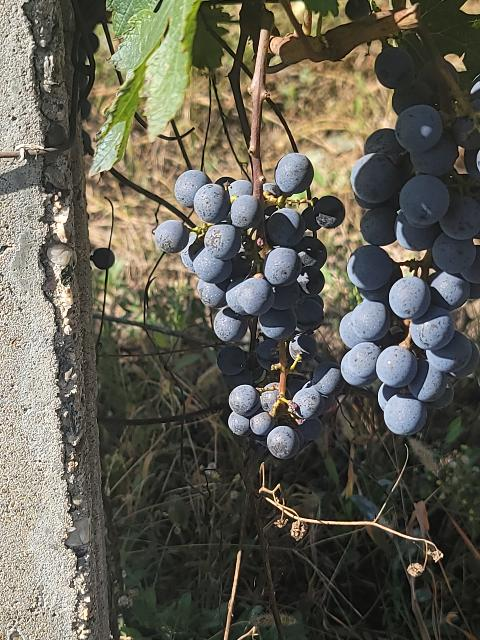grapes: (156, 152, 344, 459), (340, 45, 480, 435)
